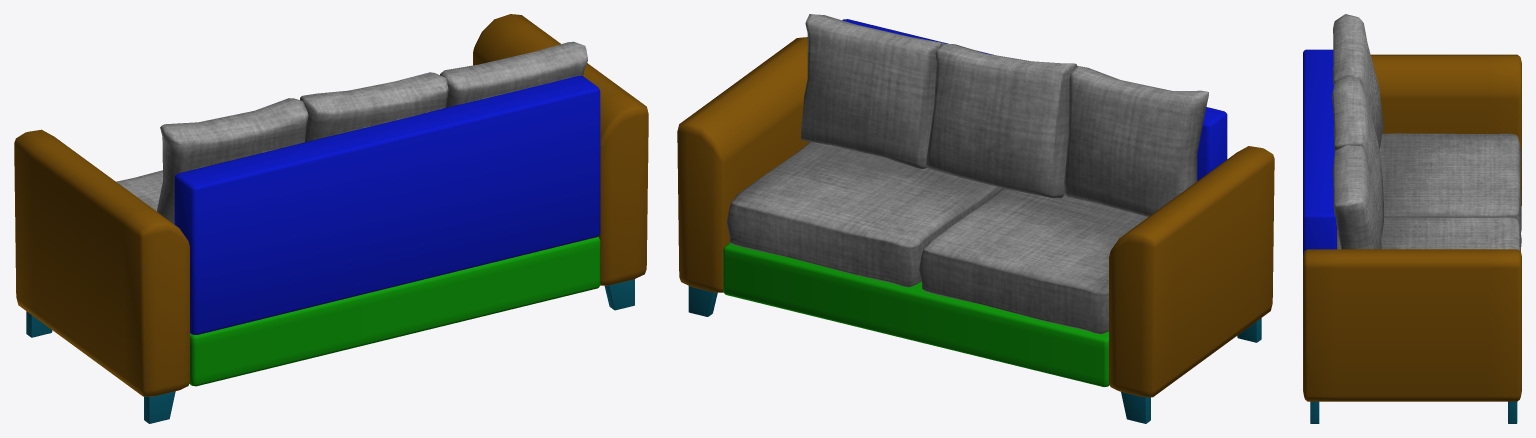
File: Sofa 2.FBX
The picture shows the model from 3 angles, left to right: view 1: azimuth 30°, elevation 25°; view 2: azimuth 150°, elevation 25°; view 3: azimuth 270°, elevation 25°; orthographic projection. The views are drawn at different scales.
Parts seen in each view (by area): view 1: Sofa 2; view 2: Sofa 2; view 3: Sofa 2.
Boxes of the visible parts, x1,y1,x2,y2 form: Sofa 2: (14,14,648,423); Sofa 2: (677,14,1274,423); Sofa 2: (1303,14,1521,423).
Bounding box in the file's own units: 2.45 × 1.09 × 1.24.
